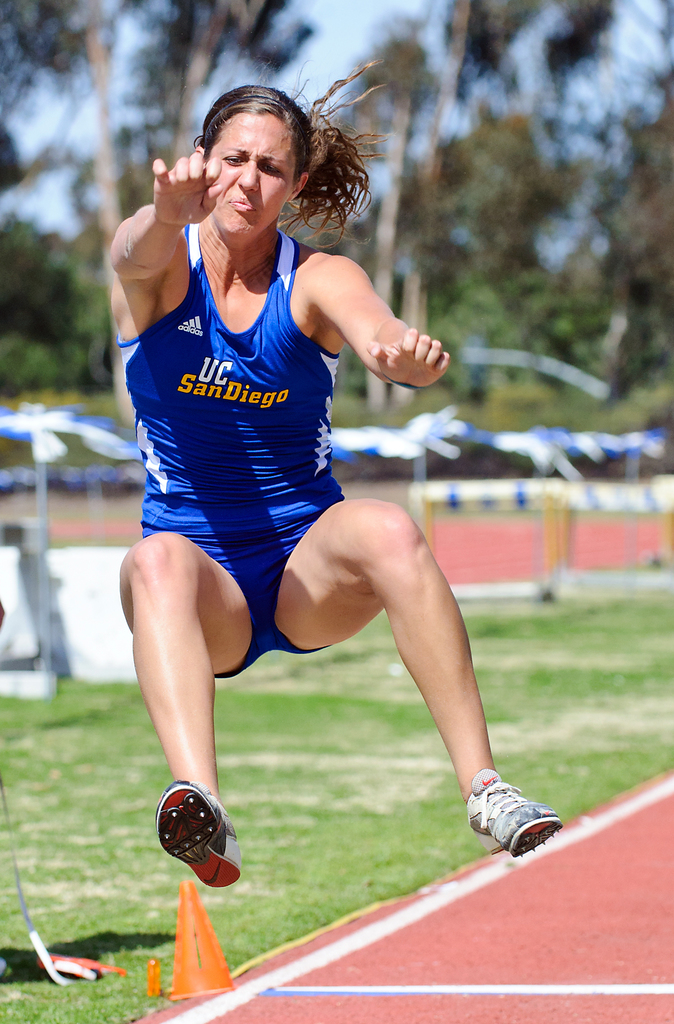Footwear: (153, 780, 249, 892), (468, 781, 561, 858)
